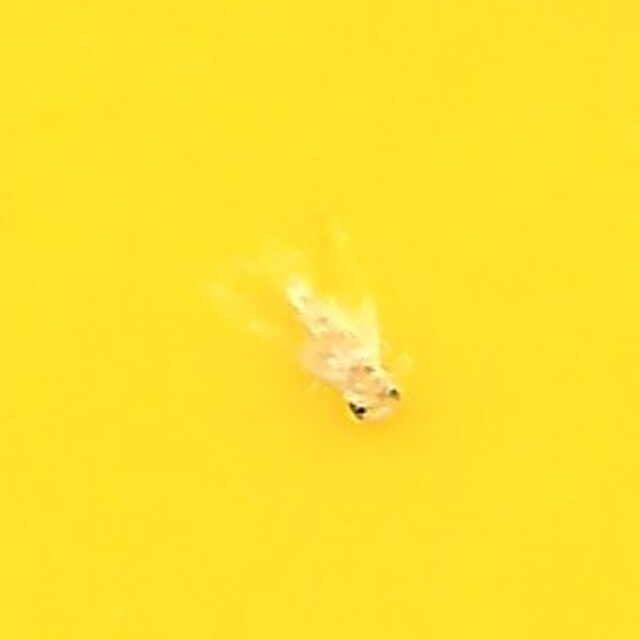Hemiptera: (230, 210, 410, 430)
